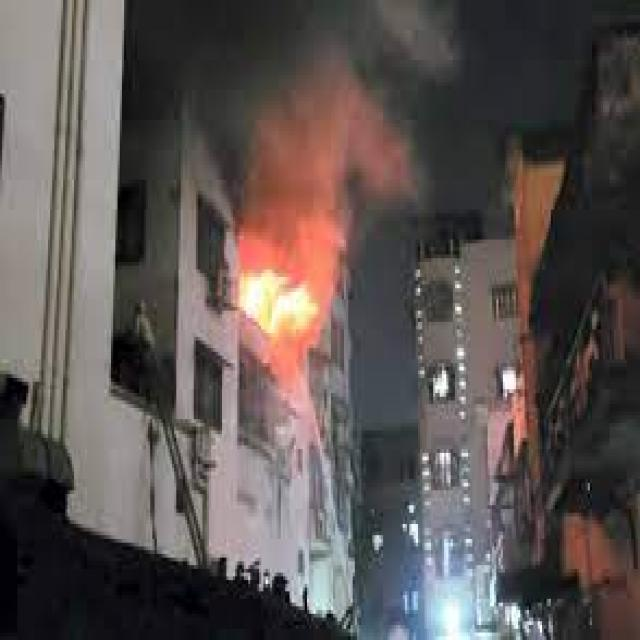fire: (235, 266, 320, 352)
smoke: (237, 4, 477, 258)
